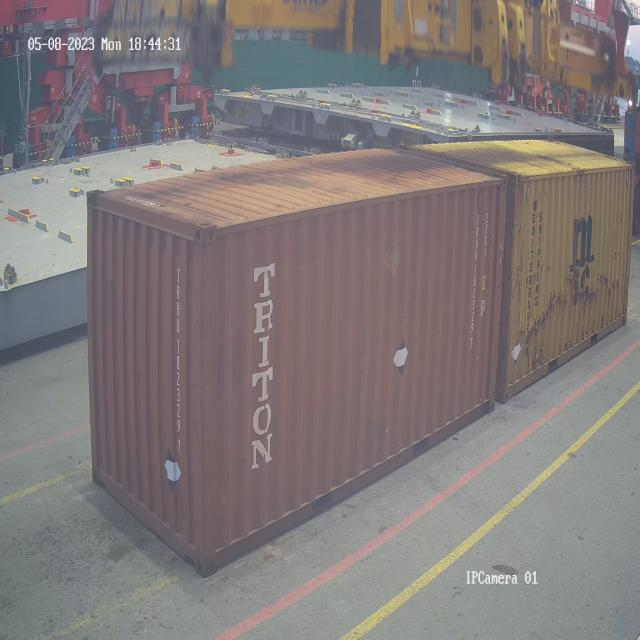dent: (526, 288, 566, 353)
